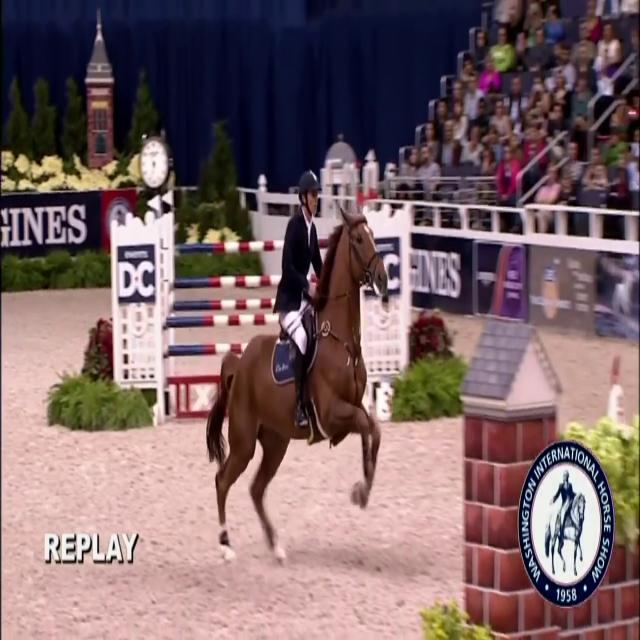Horse Rider: (274, 150, 326, 419)
Horse Running: (190, 194, 402, 565)
